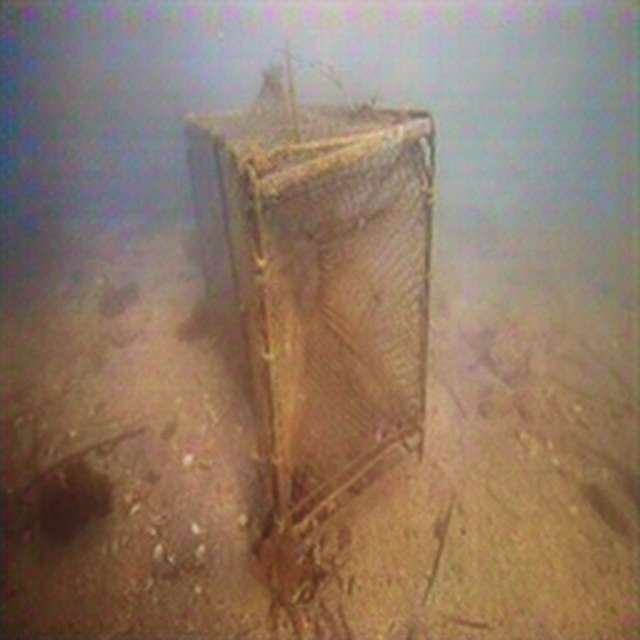mine: (183, 99, 435, 562)
